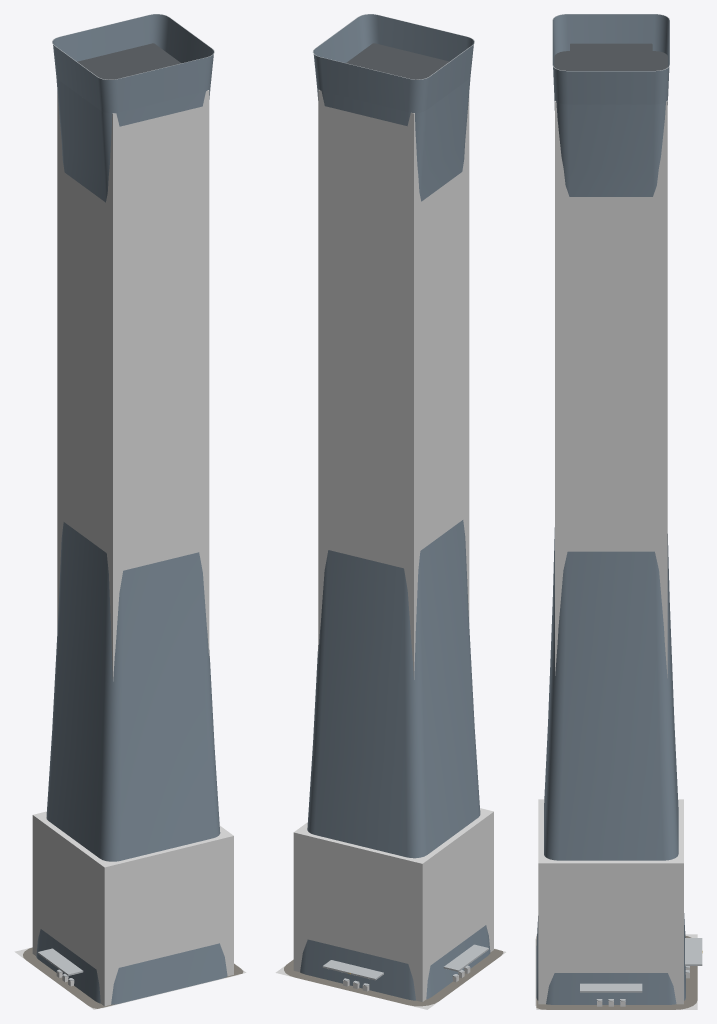
Rendered from citic.glb.
3 renders of one model, left to right at view 1: azimuth 30°, elevation 25°; view 2: azimuth 150°, elevation 25°; view 3: azimuth 270°, elevation 25°, orthographic.
Parts seen in each view (by area): view 1: COL_shaft, Massing, COL_foot, Tower; view 2: COL_shaft, Massing, COL_foot, Tower; view 3: Massing, COL_shaft, COL_foot, Tower.
Part boxes in pixels (x1,y1,x2,y2): COL_shaft: (57,90,209,681); Massing: (36,14,227,1004); COL_foot: (32,811,233,1006); Tower: (23,14,243,1008); COL_shaft: (318,90,469,679); Massing: (300,14,490,1000); COL_foot: (293,808,493,1001); Tower: (284,14,503,1006); Massing: (536,14,685,1004); COL_shaft: (555,100,667,677); COL_foot: (538,799,683,1004); Tower: (536,14,702,1009).
Size of the model in its own units: 96.8 by 528 by 85.99.
